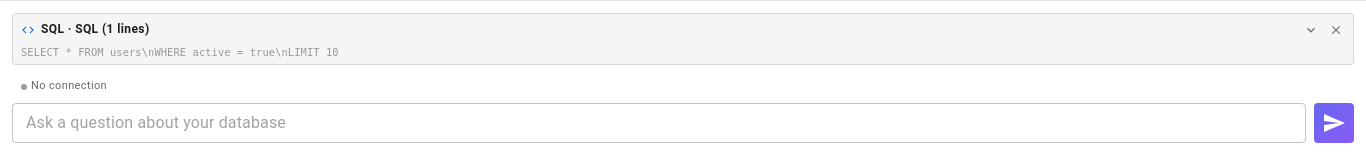
Test case: ChatInput › attached SQL › expands SQL preview when Expand SQL button is clicked
This screenshot has width=1366, height=164.
Click the button named "Expand SQL" at (1311, 30), box x1=1301 y1=20 x2=1321 y2=40
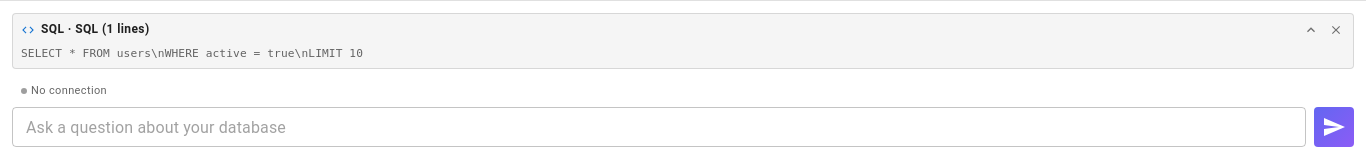
Expected: the button named "Collapse SQL" is shown, x1=1301 y1=20 x2=1321 y2=40
